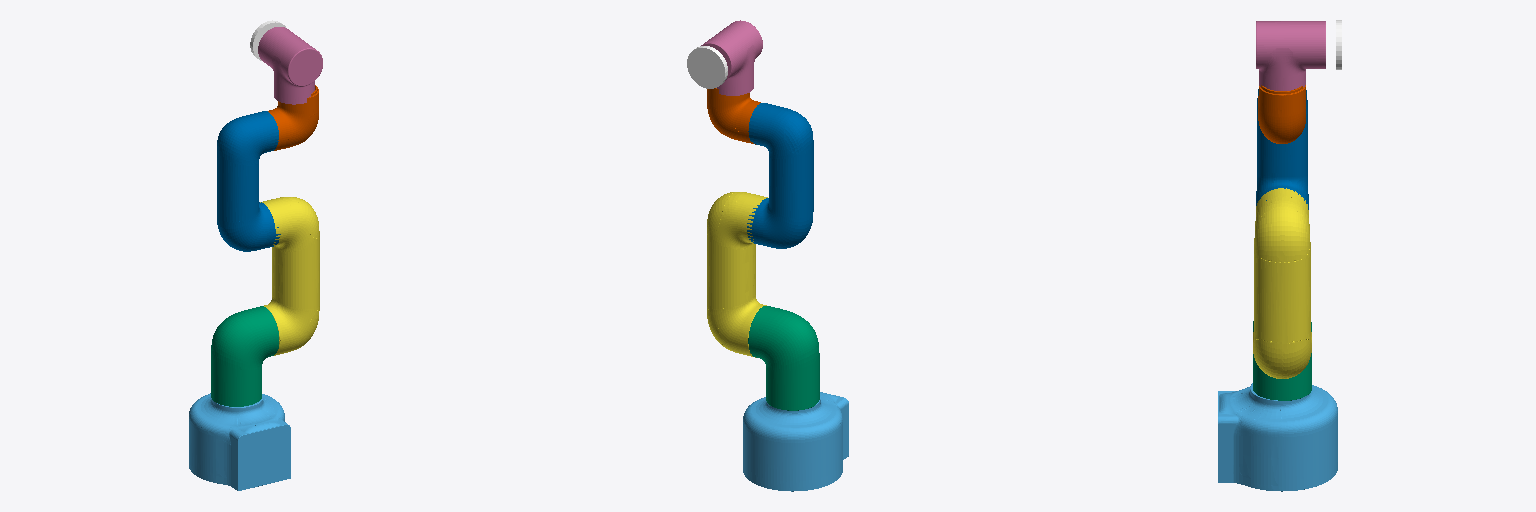
The robot description file, URDF, robot "mycobot":
<?xml version="1.0"?>
<robot name="mycobot" xmlns:xacro="http://www.ros.org/wiki/xacro">

  <material name="red">
    <color rgba="1.0 0.0 0.0 1.0" />
  </material>
  <material name="green">
    <color rgba="0.0 1.0 0.0 1.0" />
  </material>
  <material name="blue">
    <color rgba="0.0 0.0 1.0 1.0" />
  </material>
  <material name="white">
    <color rgba="1.0 1.0 1.0 1.0" />
  </material>

  <link name="base_link" />

  <joint name="base_joint" type="fixed">
    <parent link="base_link"/>
    <child link="link1"/>
  </joint> 

  <link name="link1">
    <visual>
      <geometry>
        <mesh filename="package://mycobot_description/meshes/dae/link1.dae" />
      </geometry>
      <origin xyz="0 0 0" rpy="0 0 0" />
    </visual>
  </link>

  <link name="link2">
    <visual>
      <geometry>
        <mesh filename="package://mycobot_description/meshes/dae/link2.dae"/>
      </geometry>
      <origin xyz="0 0 0" rpy="0 0 0" />
    </visual>
  </link>

  <link name="link3">
    <visual>
      <geometry>
        <mesh filename="package://mycobot_description/meshes/dae/link3.dae"/>
      </geometry>
      <origin xyz="0 0 0" rpy="0 0 0" />
    </visual>
  </link>

  <link name="link4">
    <visual>
      <geometry>
        <mesh filename="package://mycobot_description/meshes/dae/link4.dae"/>
      </geometry>
      <origin xyz="0 0 0" rpy="0 0 0" />
    </visual>
  </link>

  <link name="link5">
    <visual>
      <geometry>
        <mesh filename="package://mycobot_description/meshes/dae/link5.dae"/>
      </geometry>
      <origin xyz = "0.0 0 0 " rpy = " 0 0 0"/>
    </visual>
  </link>

  <link name="link6">
    <visual>
      <geometry>
        <mesh filename="package://mycobot_description/meshes/dae/link6.dae"/>
      </geometry>
      <origin xyz = "0.0 0 0 " rpy = " 0 0 0"/>
    </visual>
  </link>

  <link name="link6_flange">
    <visual>
      <geometry>
        <cylinder length="0.005" radius="0.02"/>
      </geometry>
      <origin xyz = "0.0 0 0 " rpy = " 1.57075 0 0"/>
      <material name="white" />
    </visual>
  </link>

  <joint name="joint1" type="revolute">
    <axis xyz="0 0 1" />
    <limit effort="1000.0" lower="-3.14" upper="3.14159" velocity="0" />
    <parent link="link1" />
    <child link="link2" />
    <origin xyz="0 0 0.0706" rpy="0 0 0" />    
  </joint>

  <joint name="joint2" type="revolute">
    <axis xyz="1 0 0" />
    <limit effort="1000.0" lower="-3.14" upper="3.14159" velocity="0" />
    <parent link="link2" />
    <child link="link3" />
    <origin xyz="0.03256 0 0.05976" rpy="0 0 0" />    
  </joint>

  <joint name="joint3" type="revolute">
    <axis xyz="1 0 0" />
    <limit effort = "1000.0" lower = "-3.14" upper = "3.14159" velocity = "0" />
    <parent link="link3" />
    <child link="link4" />
    <origin xyz=" 0.00272 0 0.1104" rpy="0 0 0" />    
  </joint>

  <joint name="joint4" type="revolute">
    <axis xyz="1 0 0" />
    <limit effort="1000.0" lower="-3.14" upper="3.14159" velocity="0" />
    <parent link="link4" />
    <child link="link5" />
    <origin xyz="-0.00164 0 0.096" rpy="0 0 0" />    
  </joint>

  <joint name="joint5" type="revolute">
    <axis xyz="0 0 1" />
    <limit effort="1000.0" lower="-3.14" upper="3.14159" velocity="0" />
    <parent link="link5" />
    <child link="link6" />
    <origin xyz="0.0288 0 0.02976" rpy="0 0 0" />    
  </joint>

  <joint name="joint6" type="revolute">
    <axis xyz="0 1 0" />
    <limit effort="1000.0" lower="-3.14" upper="3.14159" velocity="0" />
    <parent link="link6" />
    <child link="link6_flange" />
    <origin xyz= "0 0.0456 0.03792" rpy="0 0 0" />    
  </joint>
</robot>

--- Render facts (derived) ---
3 views of the same robot in one strip: view 1: azimuth 30°, elevation 25°; view 2: azimuth 150°, elevation 25°; view 3: azimuth 270°, elevation 25° (orthographic).
Model mycobot with 8 links and 7 joints (6 revolute, 1 fixed), rooted at base_link, posed all joints at 0.
Visible links, largest first — view 1: link1, link4, link3, link2, link6, link5; view 2: link1, link4, link3, link2, link6, link5, link6_flange; view 3: link1, link3, link6, link4, link5, link2.
Link boxes in pixels (x1,y1,x2,y2): link1: [189, 393, 290, 490]; link4: [217, 111, 280, 251]; link3: [260, 197, 319, 355]; link2: [211, 306, 278, 406]; link6: [258, 27, 322, 104]; link5: [268, 85, 318, 150]; link1: [743, 392, 848, 491]; link4: [747, 103, 813, 248]; link3: [707, 192, 767, 357]; link2: [748, 306, 819, 410]; link6: [701, 20, 762, 95]; link5: [707, 88, 760, 144]; link6_flange: [687, 46, 727, 88]; link1: [1218, 383, 1337, 491]; link3: [1253, 188, 1311, 378]; link6: [1256, 21, 1325, 90]; link4: [1256, 89, 1308, 209]; link5: [1258, 85, 1305, 143]; link2: [1253, 321, 1311, 400].
Bounding box of the posed robot: 0.1314 × 0.1001 × 0.4244 m (x, y, z).
6 mesh visuals loaded from 6 distinct referenced files (6 Collada DAE).